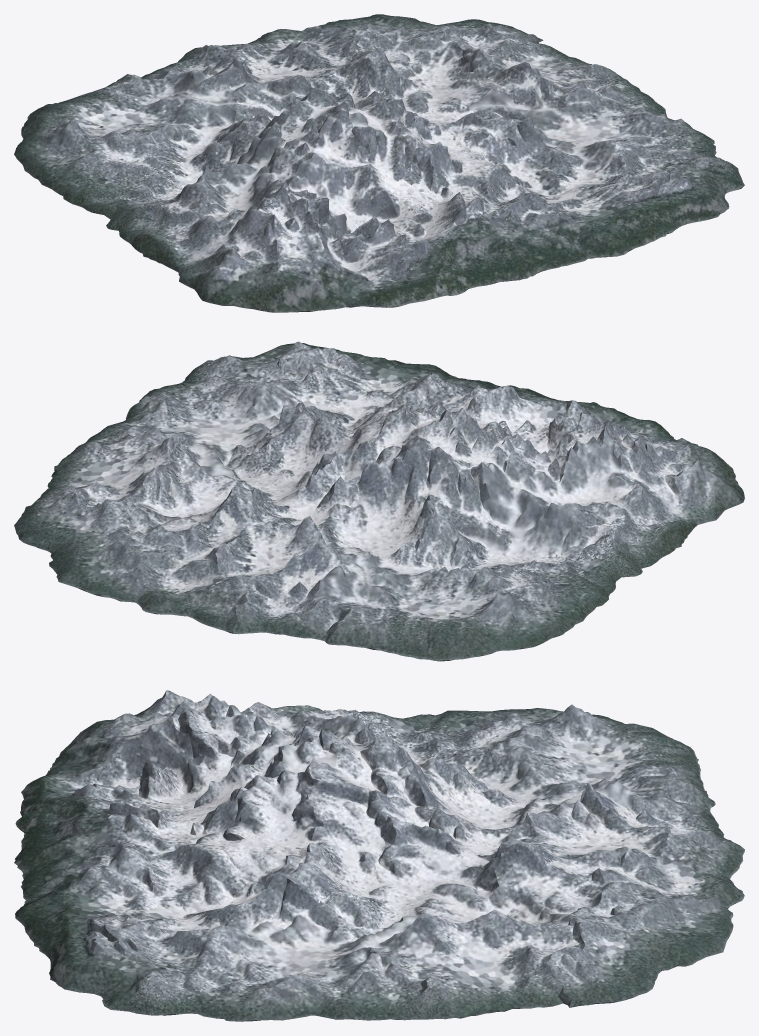
The model's file is range_lite.glb.
The picture shows the model from 3 angles, top to bottom: view 1: azimuth 30°, elevation 25°; view 2: azimuth 150°, elevation 25°; view 3: azimuth 270°, elevation 25°; orthographic projection. The views are drawn at different scales.
Parts seen in each view (by area): view 1: geometry_0; view 2: geometry_0; view 3: geometry_0.
Boxes of the visible parts, box(x1,y1,x2,y2) form: geometry_0: box(14, 14, 744, 312); geometry_0: box(14, 341, 744, 661); geometry_0: box(14, 690, 744, 1021).
Bounding box in the file's own units: 1.9 × 0.3068 × 1.9.
Materials: 1 (1 with a texture image).
